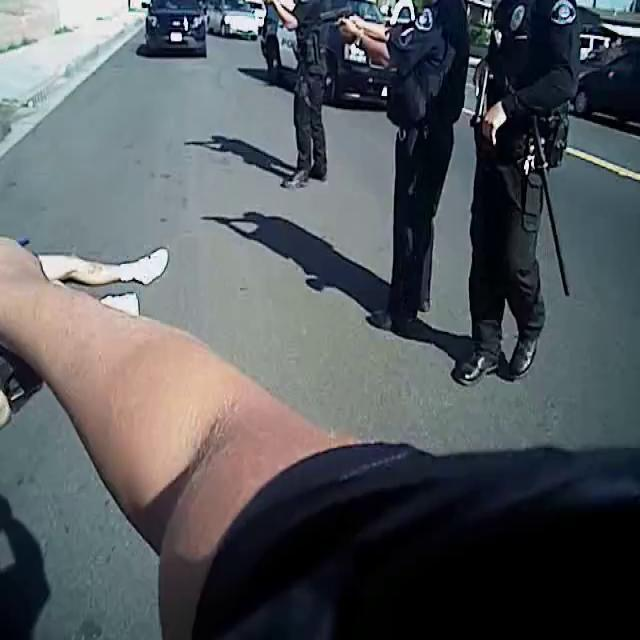gun: (313, 3, 364, 48)
